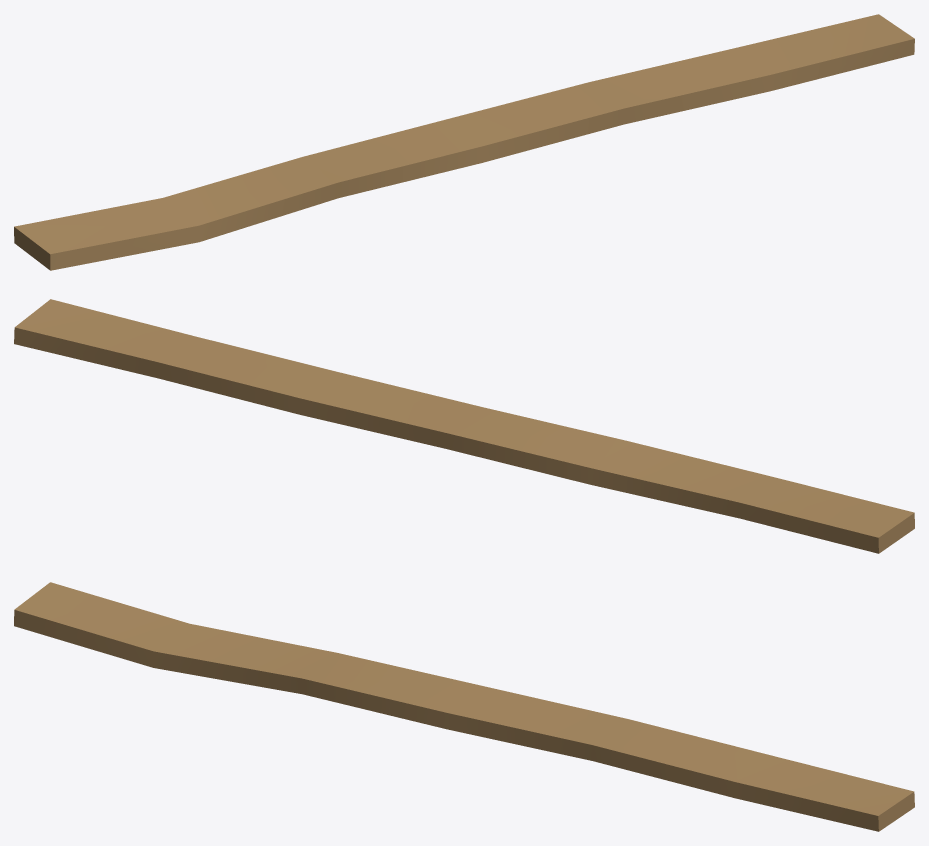
File: plank_03_a.fbx
3 renders of one model, top to bottom at view 1: azimuth 30°, elevation 25°; view 2: azimuth 150°, elevation 25°; view 3: azimuth 330°, elevation 25°, orthographic.
Visible parts, largest first — view 1: Plank_03_a; view 2: Plank_03_a; view 3: Plank_03_a.
Part boxes in pixels (x1,y1,x2,y2): Plank_03_a: (14, 14, 914, 270); Plank_03_a: (14, 299, 914, 553); Plank_03_a: (14, 582, 914, 831).
Bounding box in the file's own units: 47.35 × 4.2 × 1.21.
